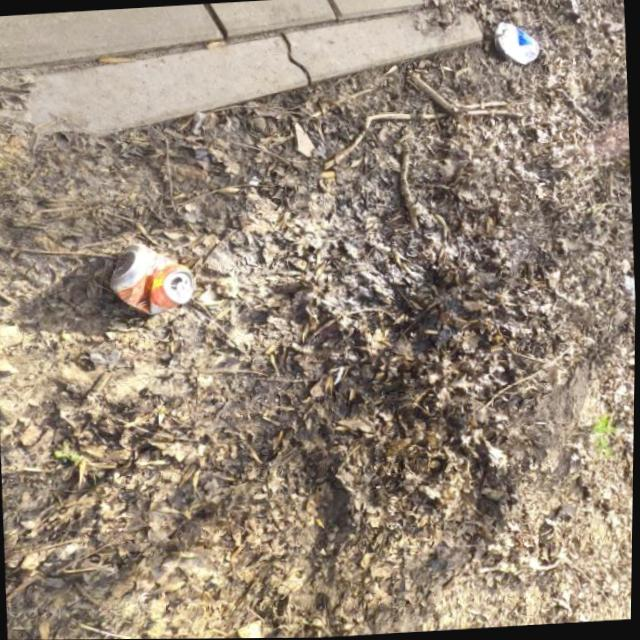Can-Metal: (105, 239, 200, 319), (492, 20, 541, 69)
